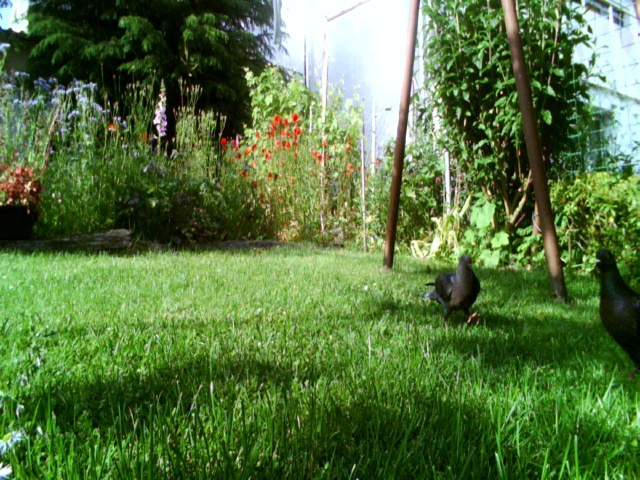Pigeon: (587, 243, 640, 375), (421, 249, 486, 330)
